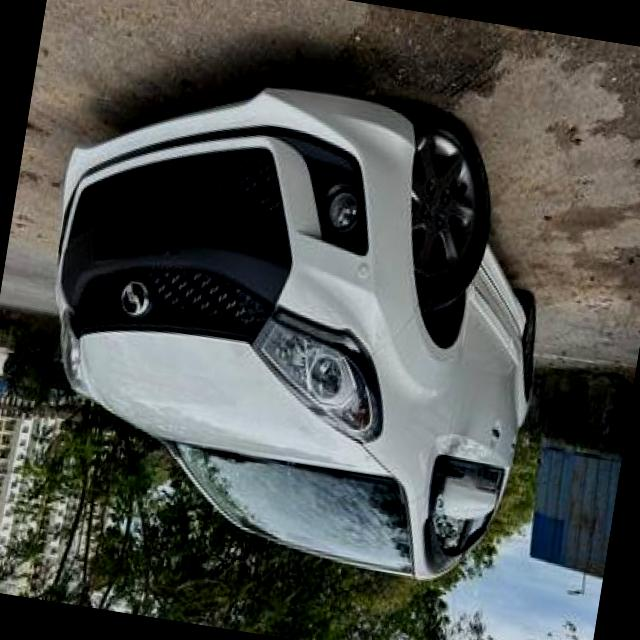PeroduaMyvi: (8, 49, 574, 597)
